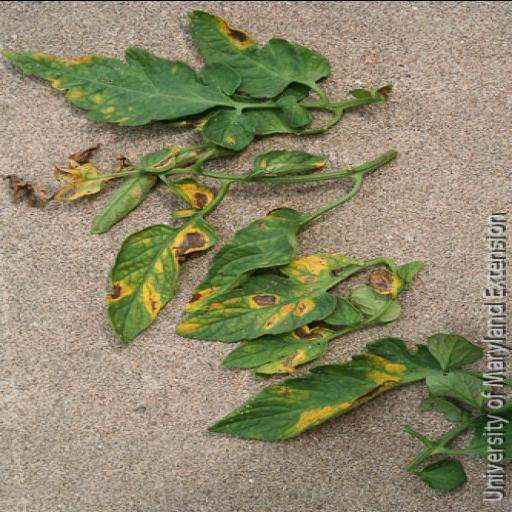Early Blight: (204, 335, 418, 445), (3, 45, 240, 127), (176, 251, 354, 342), (103, 212, 219, 346), (183, 10, 329, 98), (186, 206, 304, 310), (214, 324, 336, 375)
